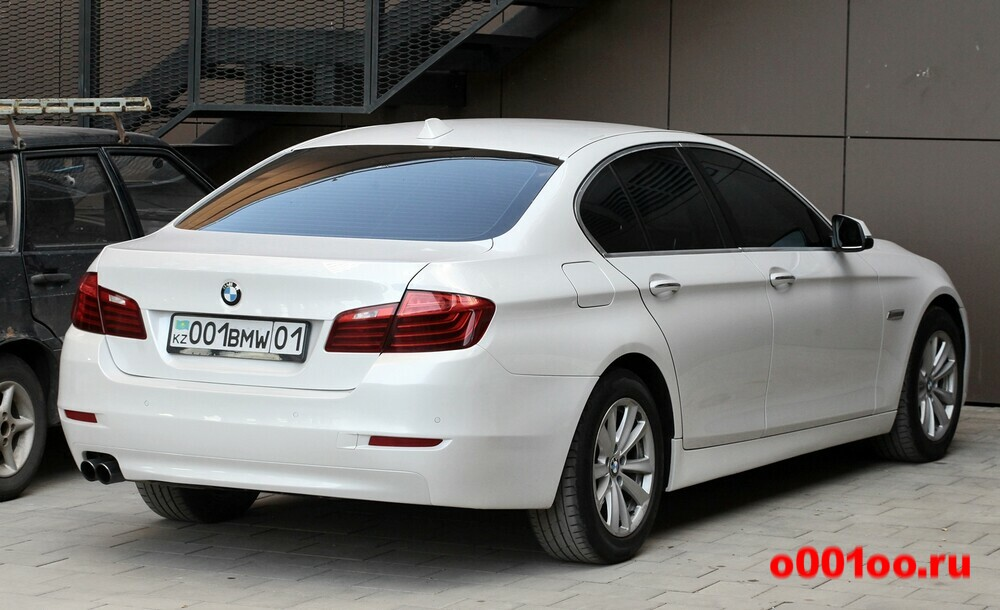license_plate: (165, 311, 308, 362)
